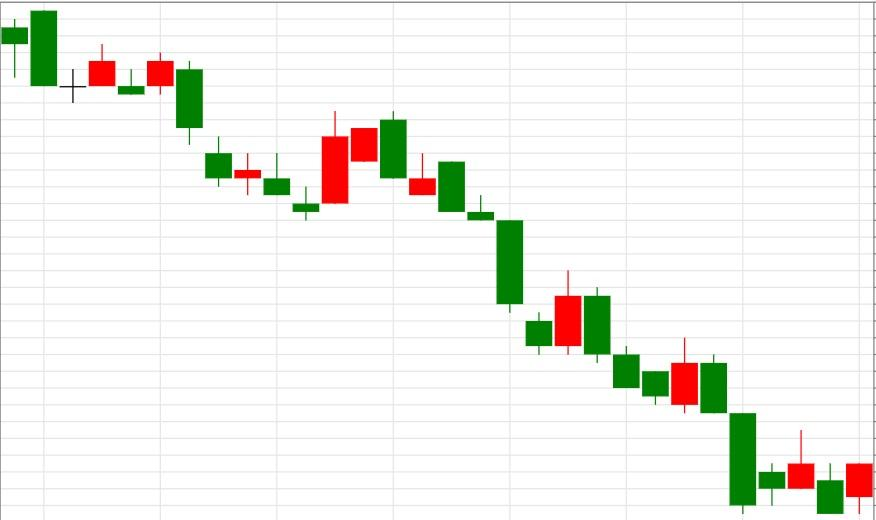bearish_engulfing_fall: (292, 111, 408, 219)
